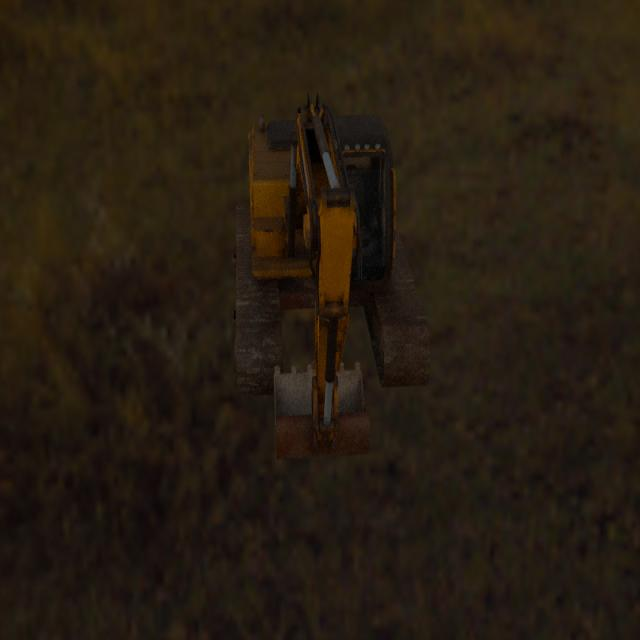excavator: (231, 89, 430, 460)
